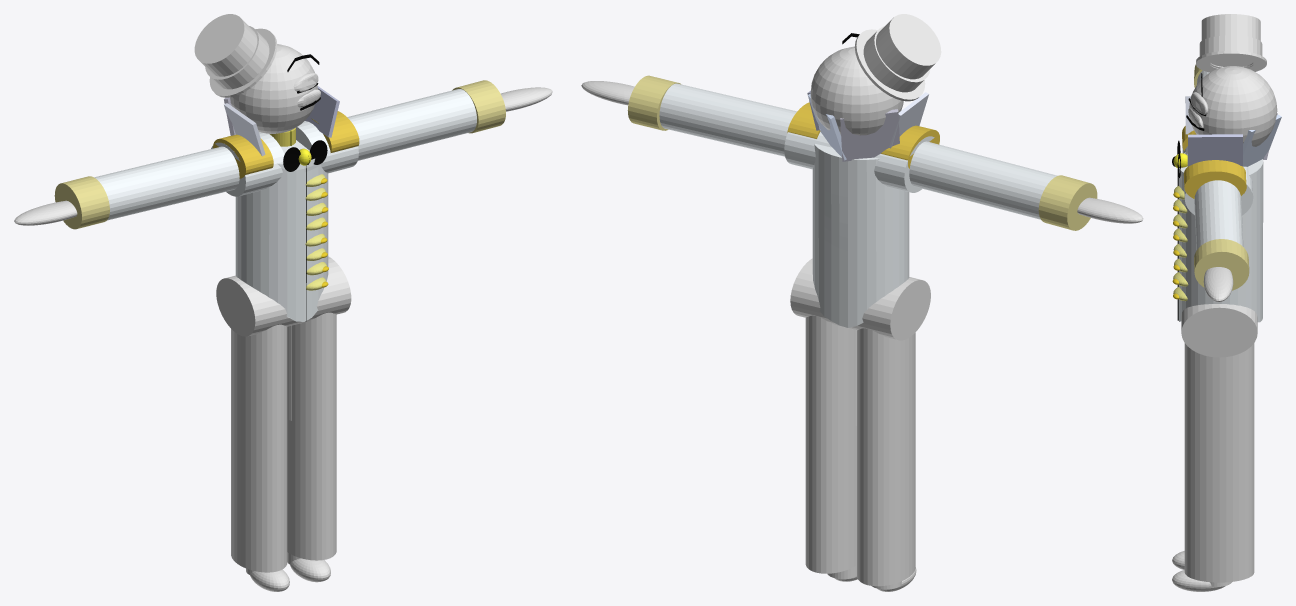
Rendered from student-08.glb.
3 views of the same model, side by side, from view 1: azimuth 30°, elevation 25°; view 2: azimuth 150°, elevation 25°; view 3: azimuth 270°, elevation 25° (orthographic). The views are drawn at different scales.
Visible parts, largest first — view 1: Shirt, Pants, Nazrick.009; view 2: Shirt, Pants, Nazrick.009; view 3: Pants, Shirt, Nazrick.009.
Part boxes in pixels (bbox=[...]): Shirt: bbox=[54, 80, 505, 321]; Pants: bbox=[216, 256, 351, 572]; Nazrick.009: bbox=[14, 14, 552, 591]; Shirt: bbox=[627, 75, 1097, 327]; Pants: bbox=[790, 258, 930, 586]; Nazrick.009: bbox=[581, 14, 1143, 591]; Pants: bbox=[1181, 304, 1257, 582]; Shirt: bbox=[1172, 64, 1281, 322]; Nazrick.009: bbox=[1172, 14, 1277, 591].
Size of the model in its own units: 22.21 by 22.2 by 4.03.
